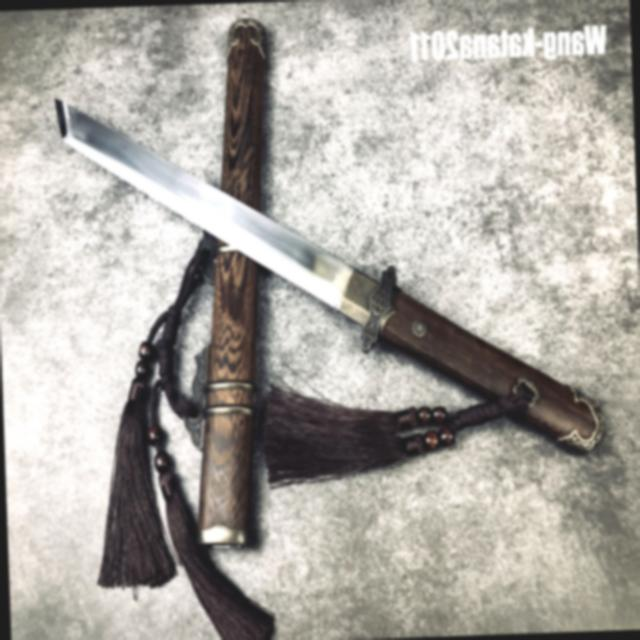short sword: (46, 21, 622, 572)
